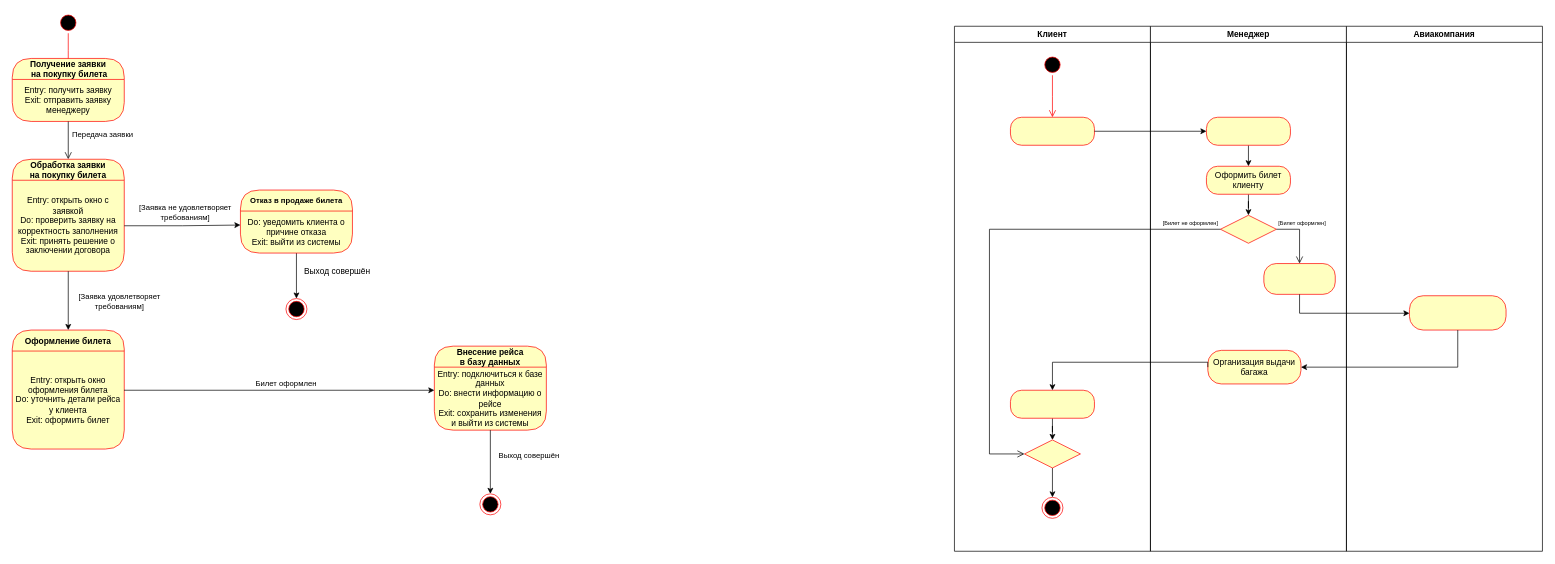
This 1555x564 diagram has some shape labels left out. The centre of each missing label's shape, as x and y in pixels:
"Доставить клиента с багажом до пункта назначения" belongs at point (1457, 312).
"Обработать заявку на покупку билета" belongs at point (1248, 131).
"Организовать посадку клиента" belongs at point (1299, 278).
"Получить багаж по месту прилета" belongs at point (1052, 404).
"Создать заявку на покупку билета" belongs at point (1052, 131).
